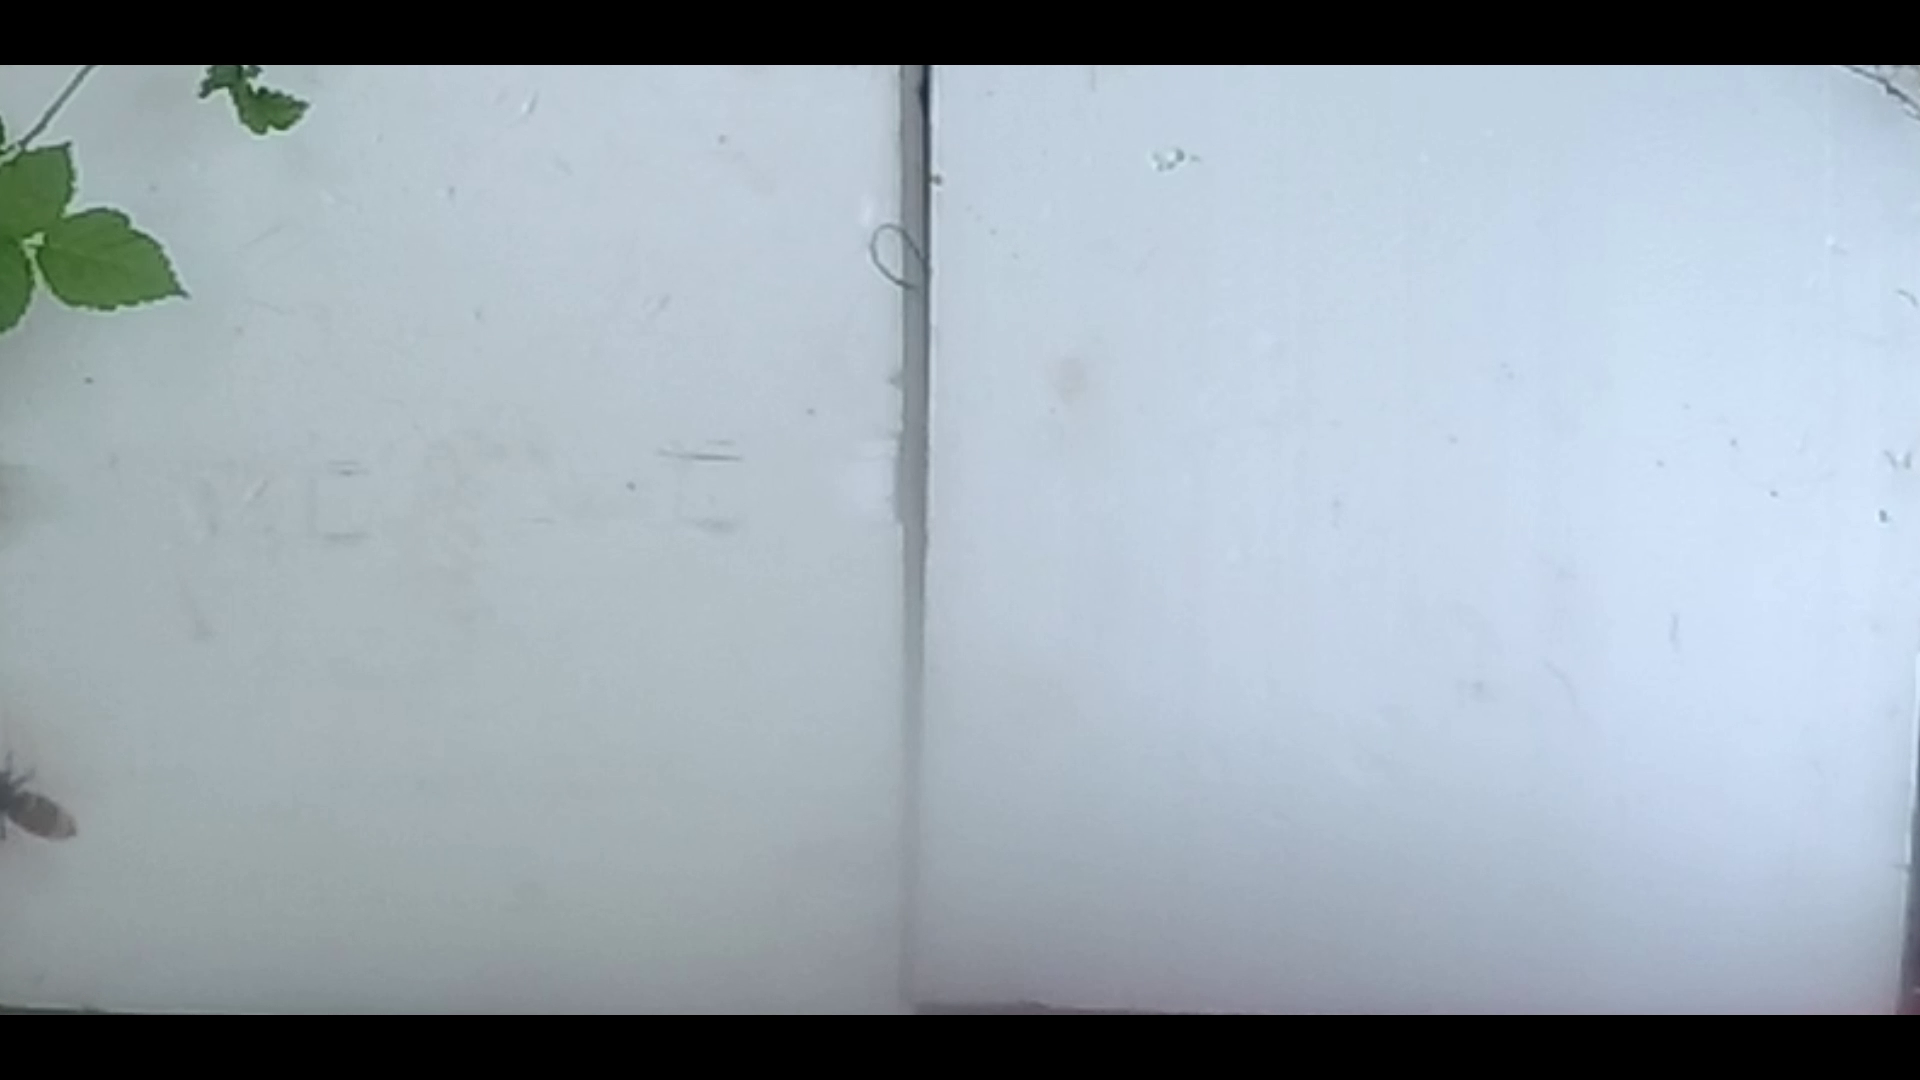Asian_hornets: (0, 746, 87, 872)
